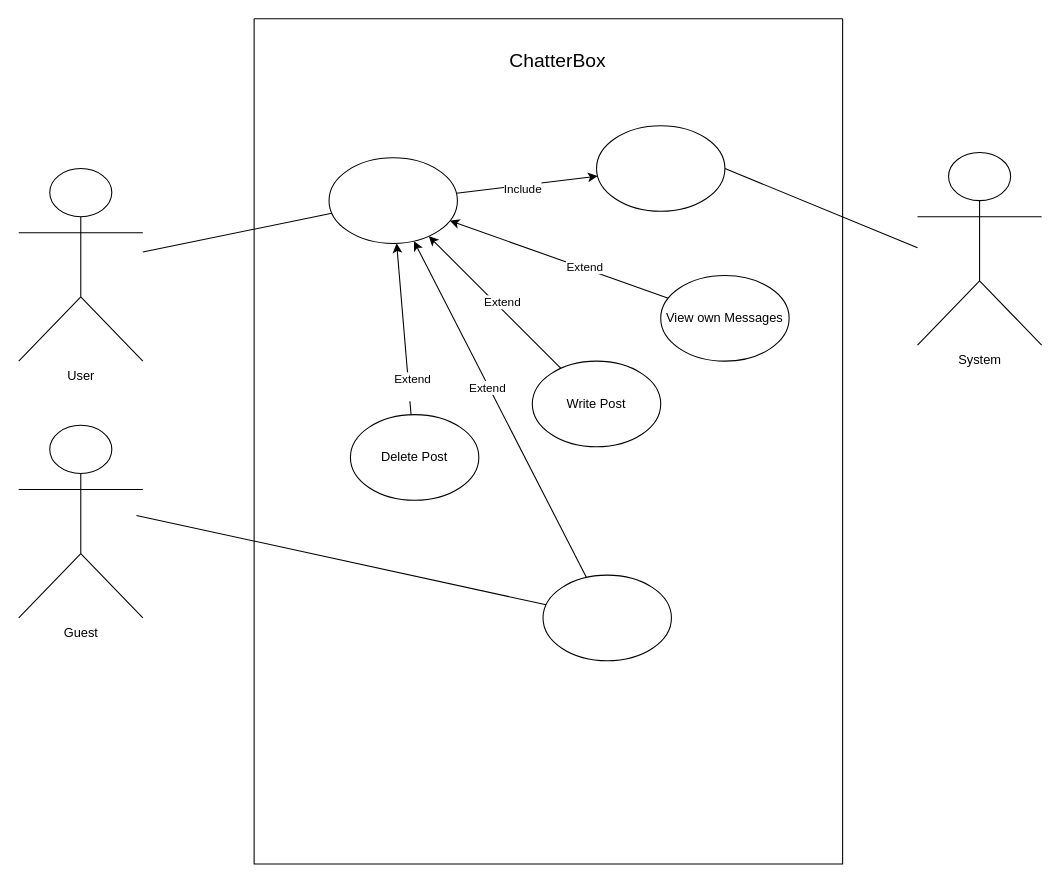
Image size: 1060x883. Some labels were removed from this diagram. The shapes that lost their labels are listed below. From the top down, each one's box as (x1, y1, x2, y2) in pixels, then its label:
(595, 125, 725, 211): Check Credentials
(328, 157, 457, 243): Login
(542, 574, 671, 661): View all Messages
